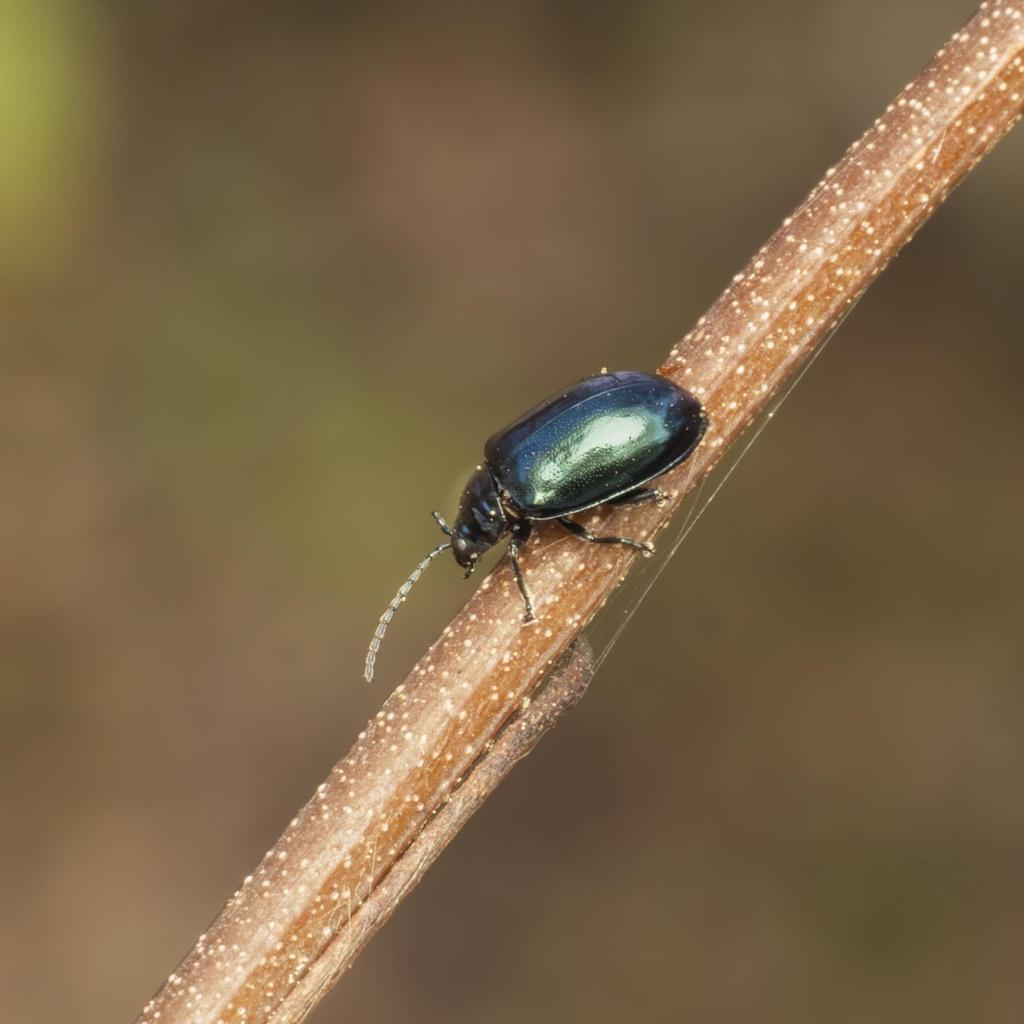flea_beetle: (285, 281, 810, 728)
